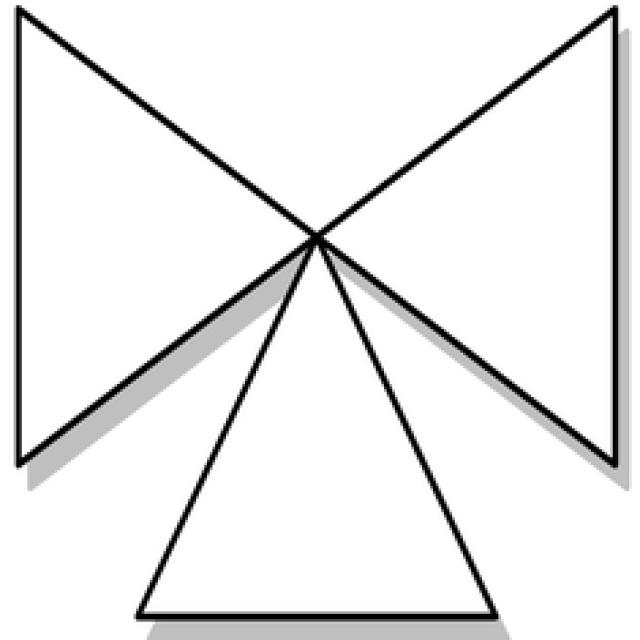3-way Valve: (19, 8, 313, 466), (141, 239, 496, 618), (320, 11, 614, 466)
